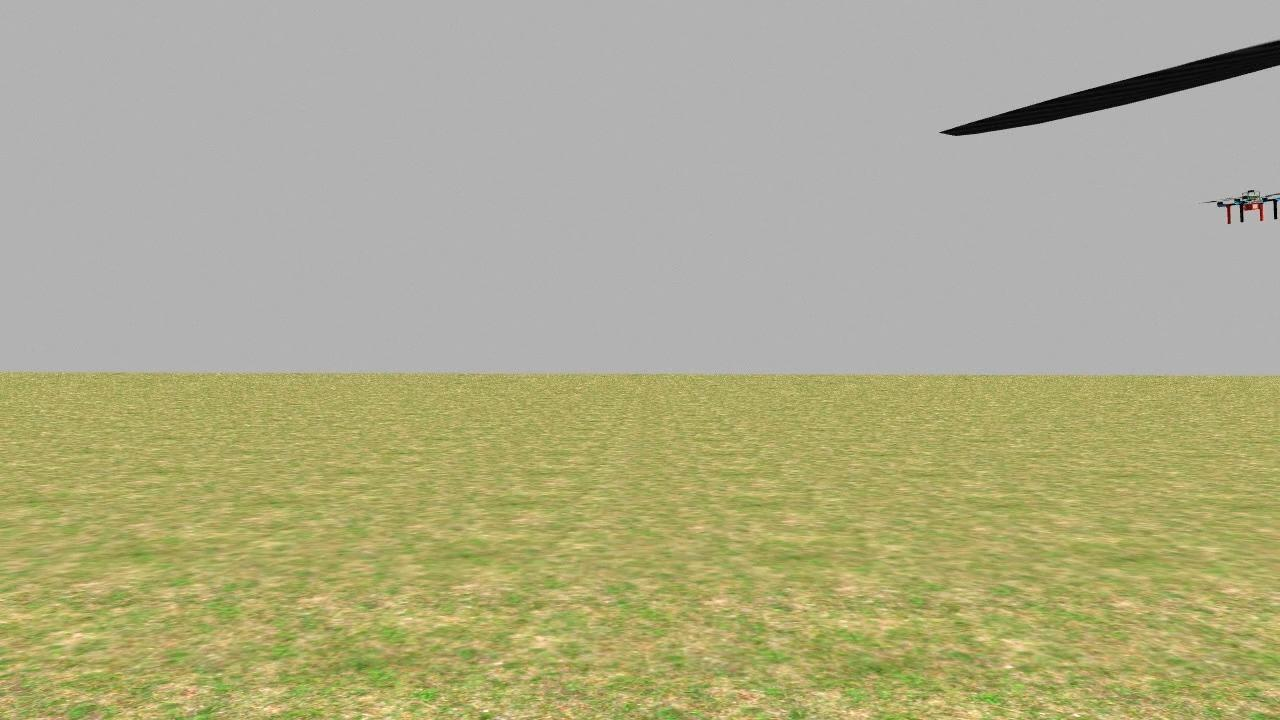UAV: (1191, 175, 1280, 228)
